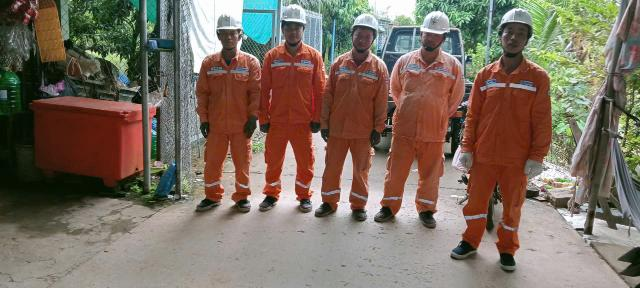gloves: (518, 153, 551, 184), (455, 146, 480, 174), (240, 110, 259, 140), (257, 112, 277, 135), (197, 118, 215, 141), (367, 128, 385, 149), (319, 121, 334, 145), (307, 113, 319, 138)
helmet: (483, 3, 540, 36), (197, 11, 249, 35), (419, 13, 462, 39), (342, 13, 384, 35), (277, 5, 316, 26)
shoes: (492, 243, 524, 276), (450, 242, 483, 266), (372, 200, 400, 225), (256, 193, 285, 216), (314, 200, 344, 221), (410, 209, 441, 228), (192, 194, 225, 210), (350, 200, 370, 223), (232, 194, 253, 214), (294, 198, 314, 215)
